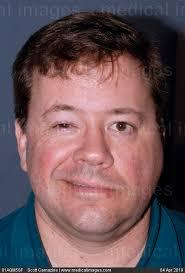strokeEyeMid: (43, 97, 150, 147)
strokeMouthMid: (54, 172, 125, 205)
